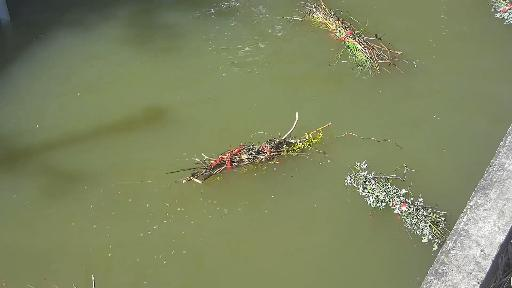twig: (168, 108, 355, 192), (331, 158, 467, 247), (292, 0, 406, 92), (489, 0, 512, 13)
